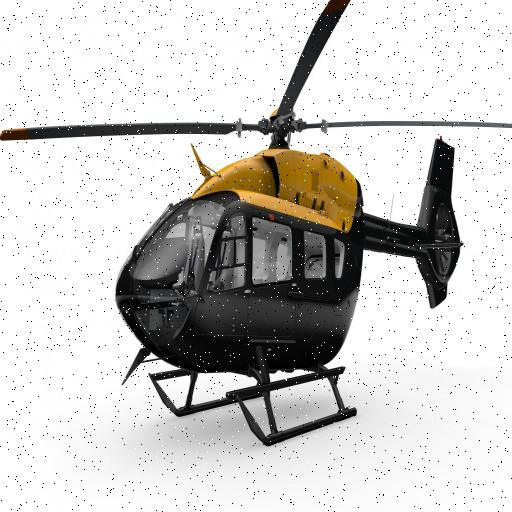helicopter: (1, 1, 512, 452)
